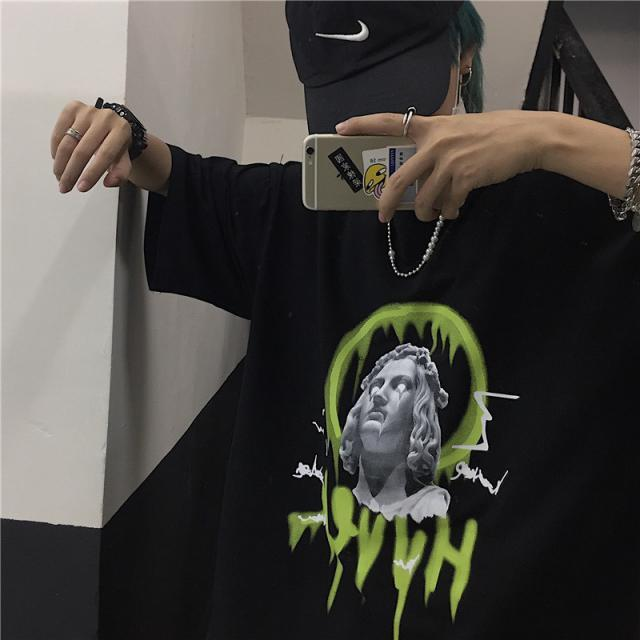Shirt: (146, 135, 638, 639)
